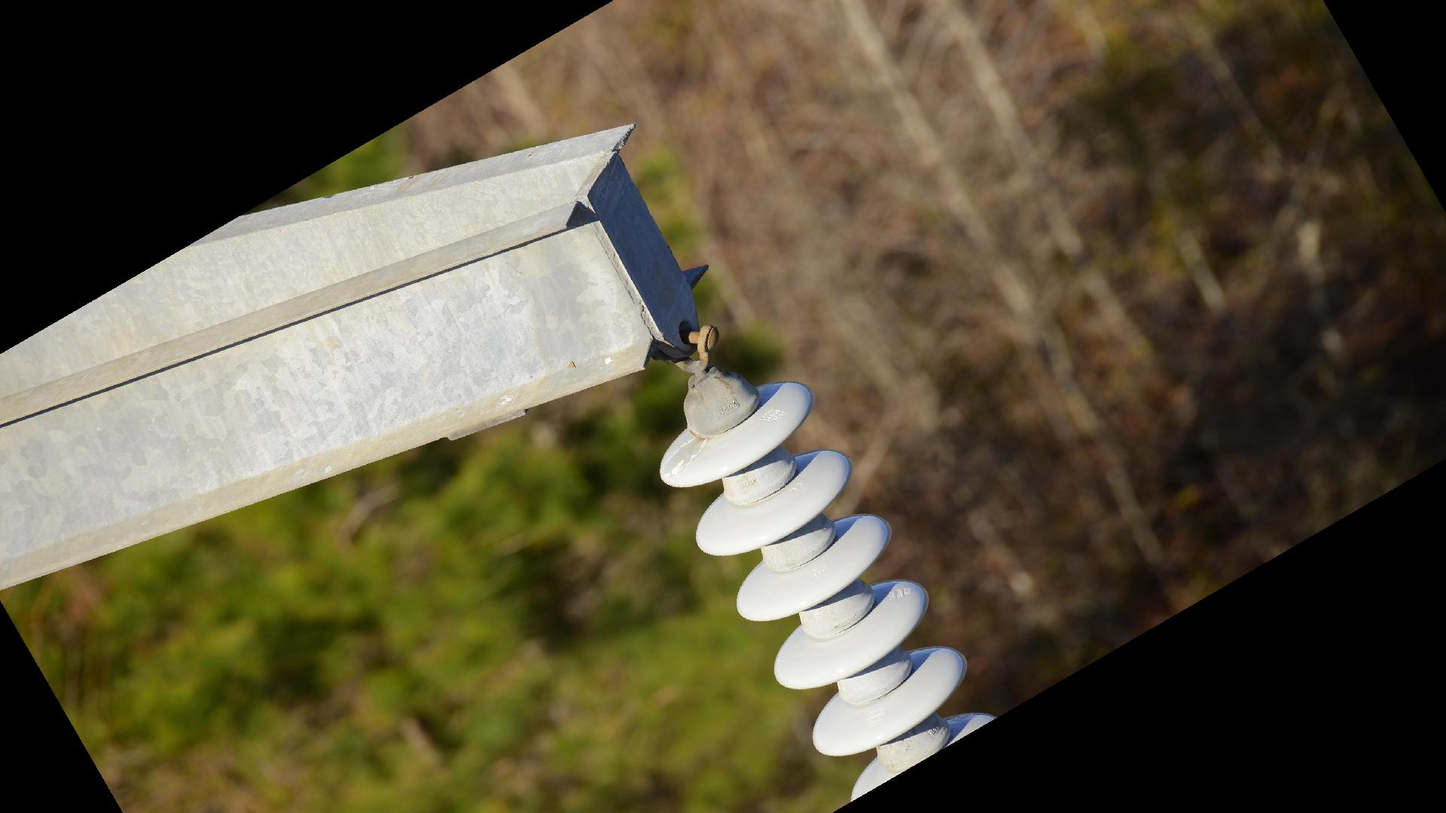insulator: (651, 375, 1001, 813)
insulator_flashover: (654, 433, 708, 481)
